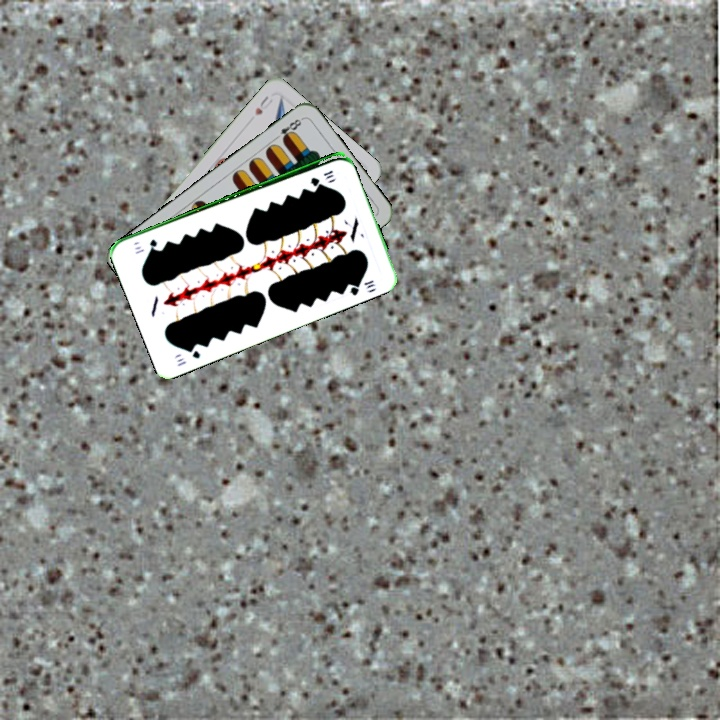E8: (270, 114, 305, 144)
G10: (174, 343, 203, 369), (306, 166, 336, 187)
HU: (250, 91, 275, 118)
